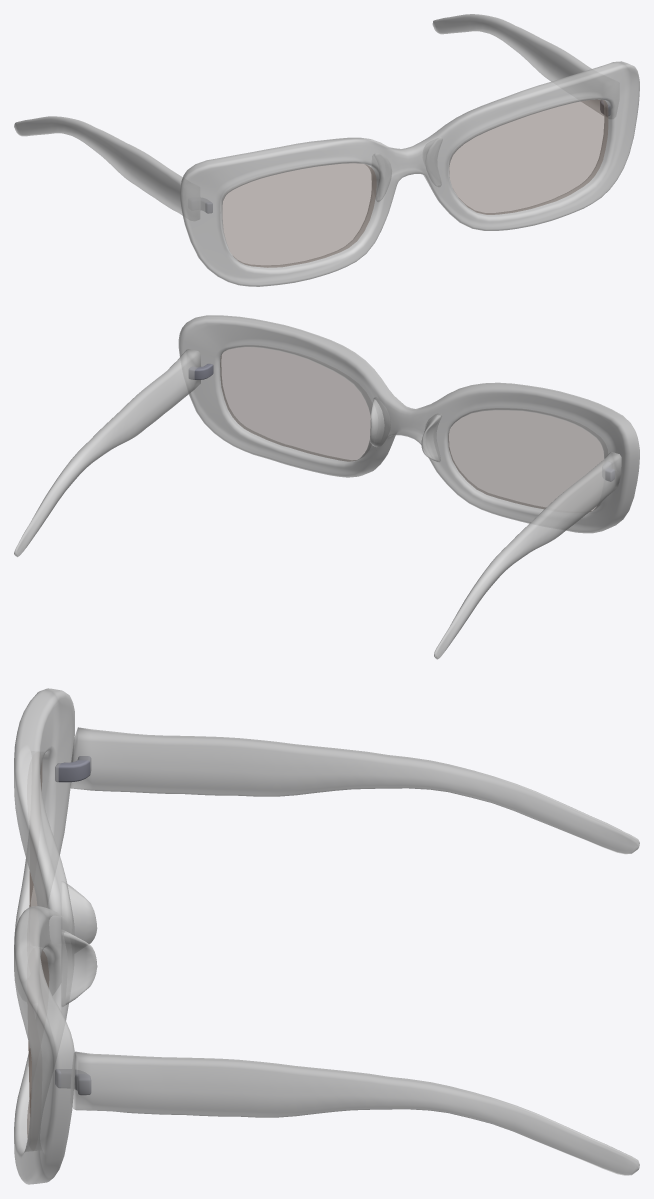
File: ash.glb
3 views of the same model, one above another, from view 1: azimuth 30°, elevation 25°; view 2: azimuth 150°, elevation 25°; view 3: azimuth 270°, elevation 25° (orthographic). The views are drawn at different scales.
Parts seen in each view (by area): view 1: model_2; view 2: model_2; view 3: model_2.
Part boxes in pixels (x1,y1,x2,y2): model_2: (14,14,639,286); model_2: (14,315,639,659); model_2: (14,688,639,1184).
Size of the model in its own units: 2.28 by 0.6454 by 1.71.
